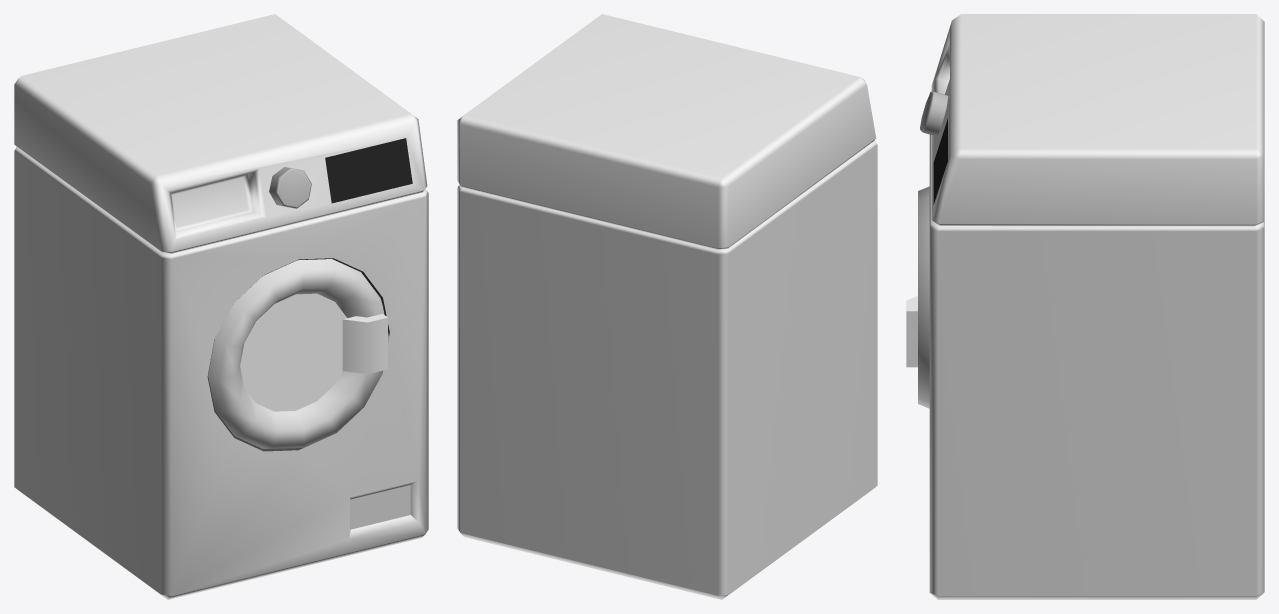
Rendered from bathroom_009.fbx.
The picture shows the model from 3 angles, left to right: view 1: azimuth 30°, elevation 25°; view 2: azimuth 150°, elevation 25°; view 3: azimuth 270°, elevation 25°; orthographic projection. The views are drawn at different scales.
Visible parts, largest first — view 1: bathroom_009; view 2: bathroom_009; view 3: bathroom_009.
Boxes of the visible parts, x1,y1,x2,y2 form: bathroom_009: (14, 14, 428, 599); bathroom_009: (457, 14, 877, 599); bathroom_009: (906, 14, 1264, 599).
Size of the model in its own units: 78.58 by 84.01 by 117.
